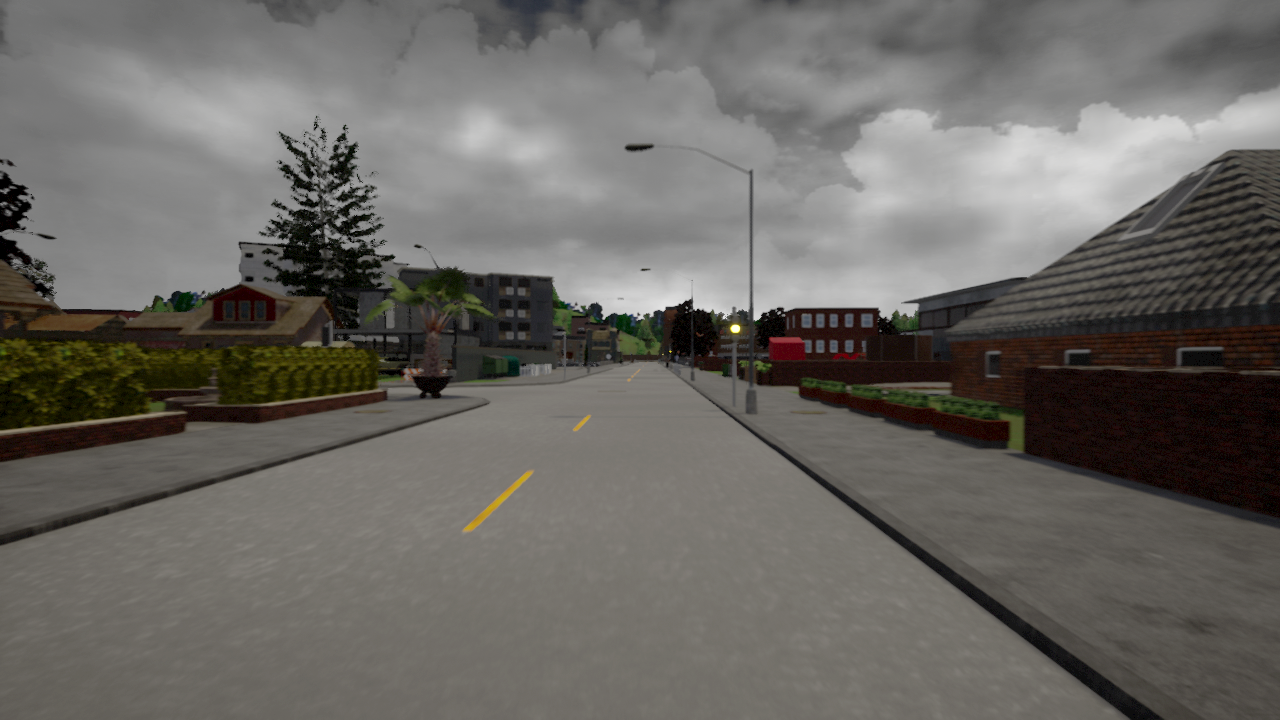yellow: (730, 315, 741, 343)
